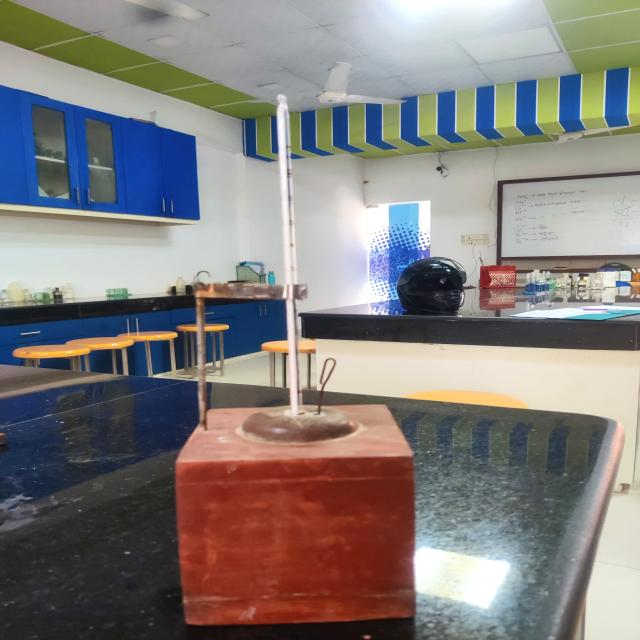Calorimeter: (143, 62, 452, 640)
